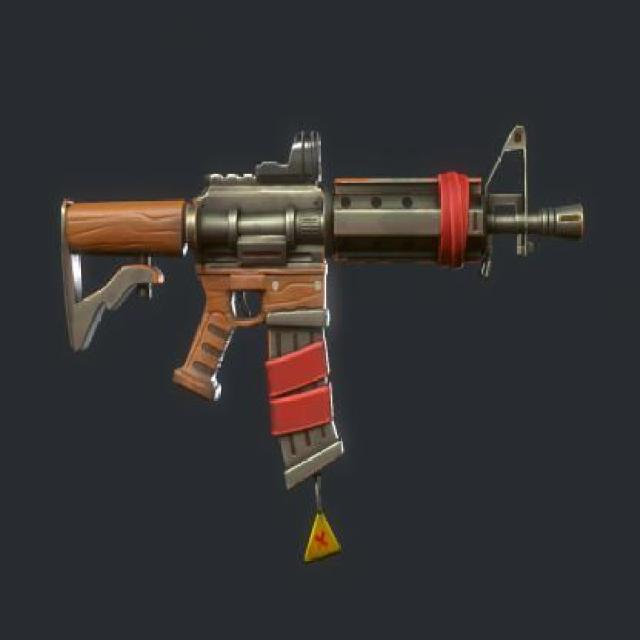weapon: (52, 120, 590, 477)
